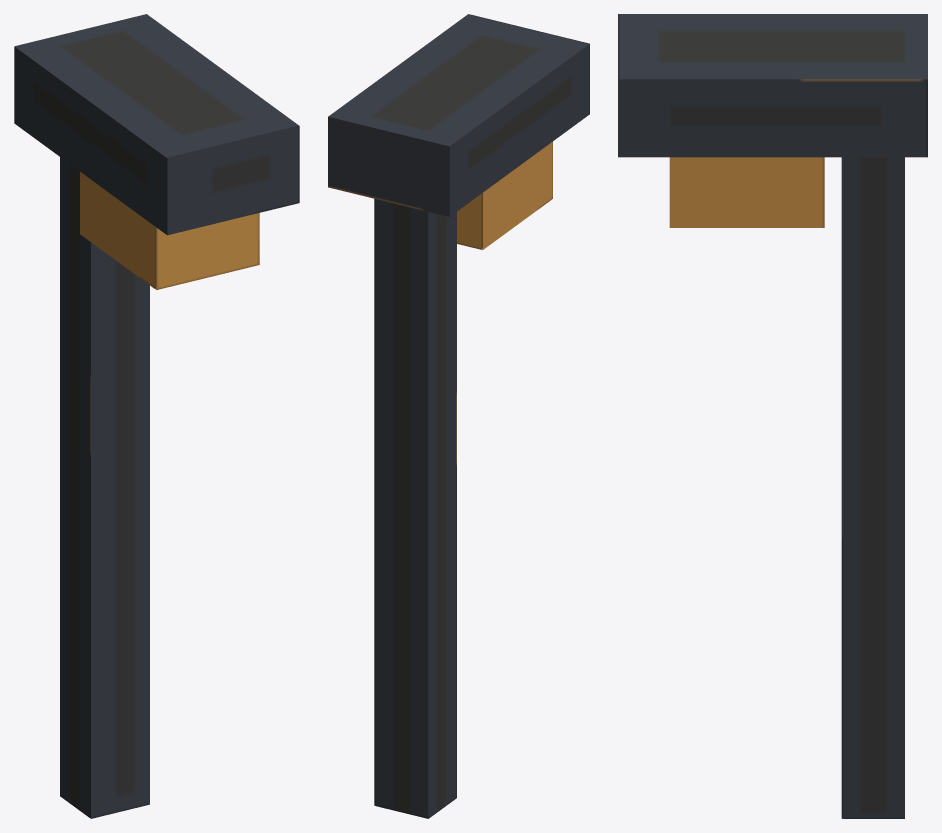
File: lamp.fbx
3 renders of one model, left to right at view 1: azimuth 30°, elevation 25°; view 2: azimuth 150°, elevation 25°; view 3: azimuth 270°, elevation 25°, orthographic. The views are drawn at different scales.
Parts seen in each view (by area): view 1: cube, cube_1, cube_2; view 2: cube, cube_1, cube_2; view 3: cube_1, cube, cube_2.
Part boxes in pixels (left/top/right/bottom): cube: left=60, top=157, right=149, bottom=818; cube_1: left=14, top=14, right=299, bottom=235; cube_2: left=80, top=172, right=259, bottom=289; cube: left=374, top=199, right=456, bottom=818; cube_1: left=328, top=14, right=589, bottom=216; cube_2: left=457, top=141, right=552, bottom=249; cube_1: left=618, top=14, right=927, bottom=157; cube: left=841, top=157, right=904, bottom=818; cube_2: left=669, top=157, right=824, bottom=227.
Size of the model in its own units: 84.38 by 456 by 169.
1 material, 1 textured.
